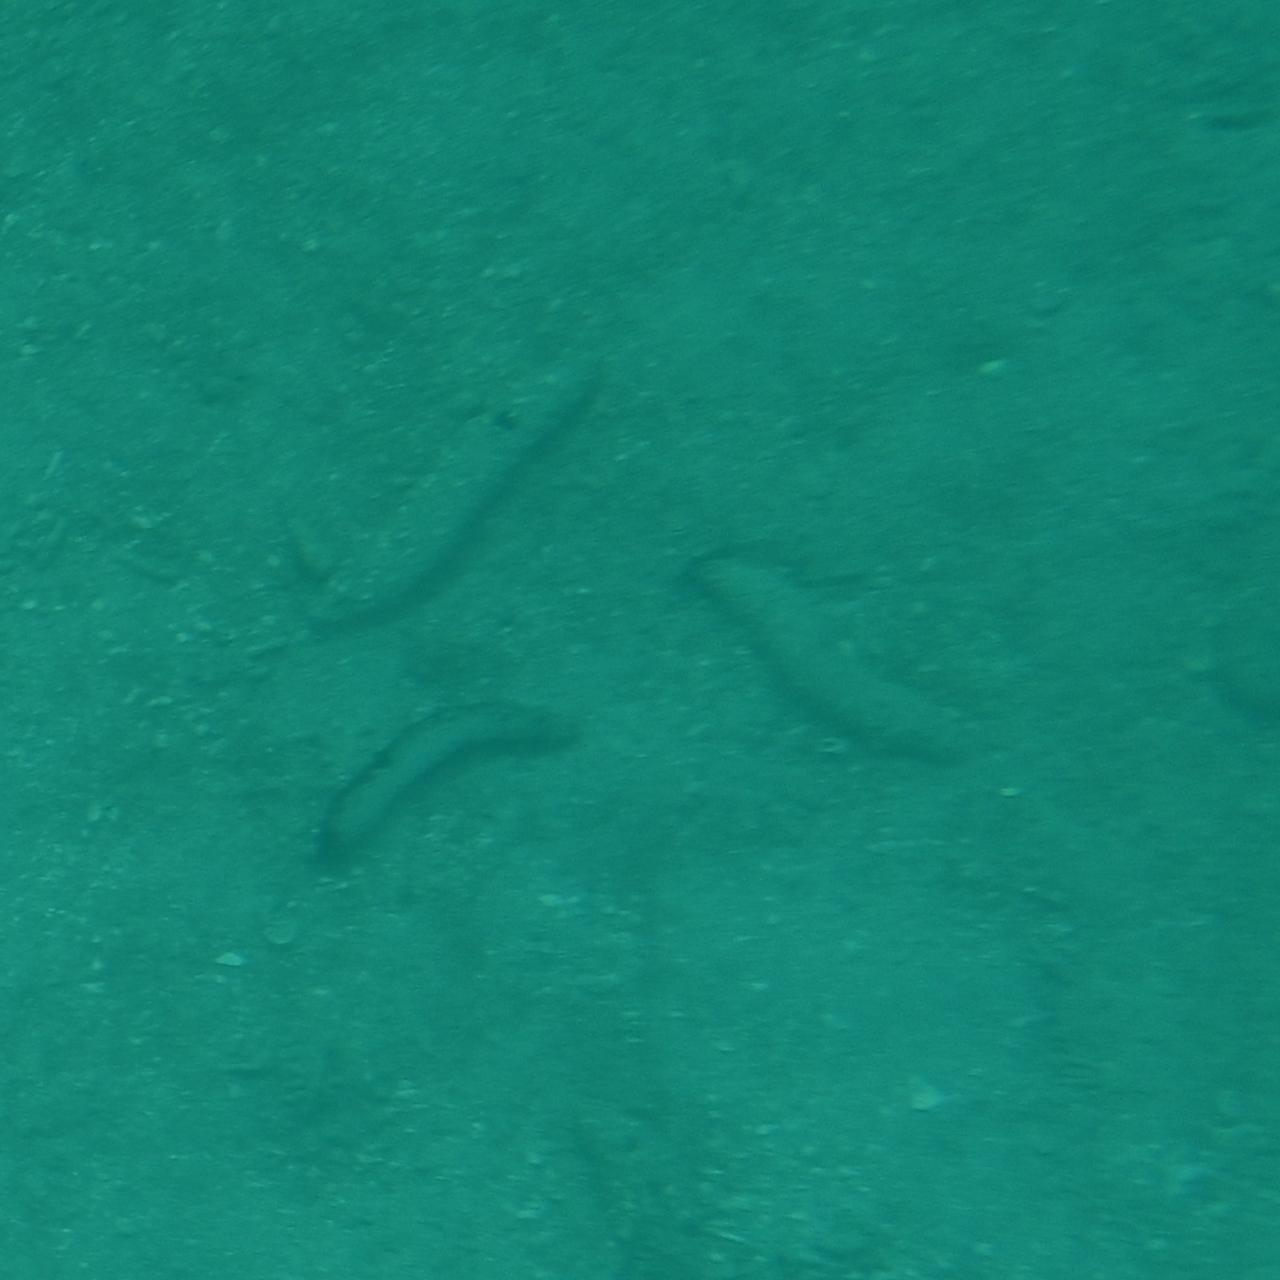Holothuria tubulosa: (308, 333, 620, 653), (672, 547, 993, 783), (309, 694, 588, 881)
